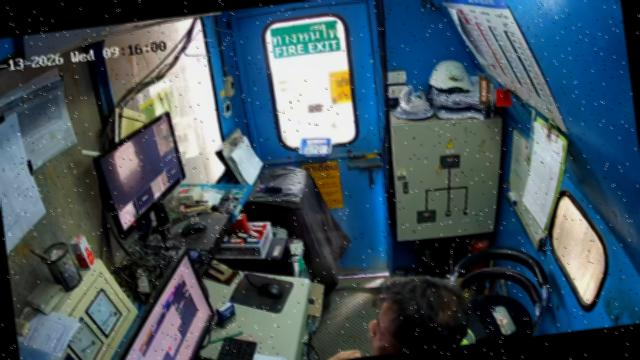Head: (370, 277, 473, 354)
People: (369, 276, 475, 355)
Phone: (466, 310, 490, 340), (476, 310, 503, 336)
